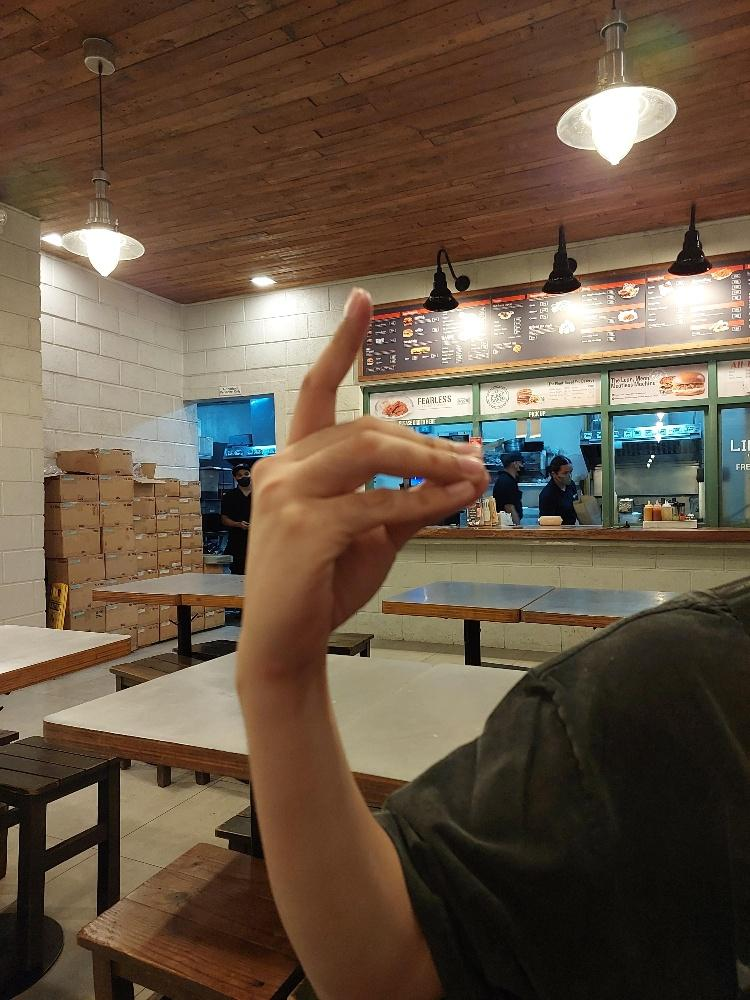d: (240, 281, 491, 679)
